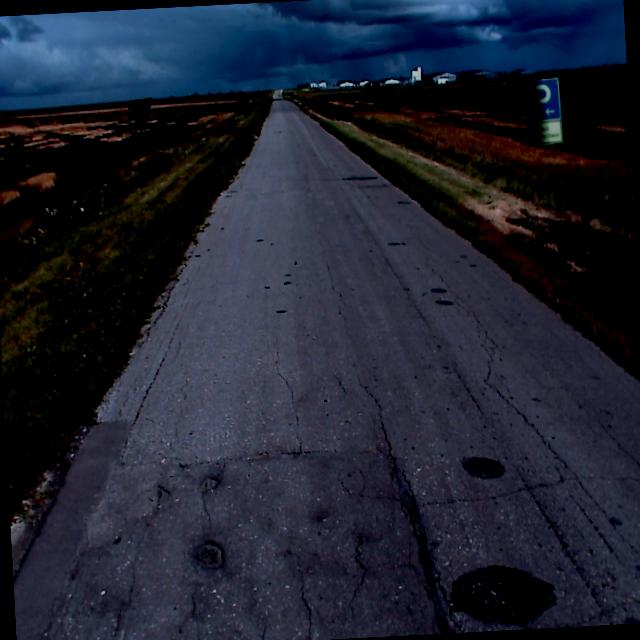road: (13, 98, 640, 640)
